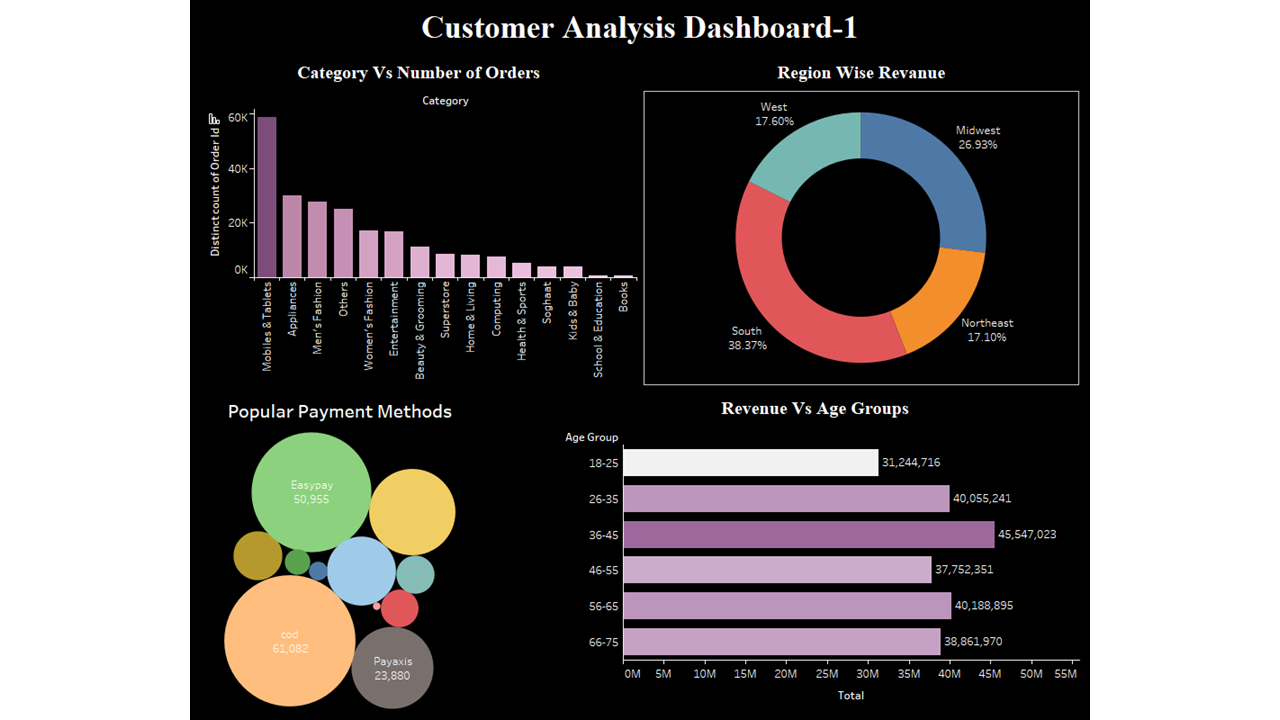

This screenshot's page, from the dashboard's own definition file:
{"tool":"tableau","page":{"name":"Dashboard 1","canvas":[1000,800],"ordinal":0},"visuals":[{"type":"text","box":[8,8,984,45]},{"type":"worksheet","title":"Category wise number of order","mark":"Bar","rows":["order_id"],"cols":["category"],"box":[8,59,492,373]},{"type":"worksheet","title":"Region Wise Revanue","mark":"Pie","rows":["Calculation_227994755006771208","Calculation_227994755006771208"],"box":[500,59,492,373]},{"type":"worksheet","title":"Popular Payment Methods","mark":"Circle","box":[8,432,389,360]},{"type":"worksheet","title":"customer ages","mark":"Automatic","rows":["total"],"cols":["Calculation_227994754961575941"],"box":[397,432,595,360]}]}

Visuals, with their boxes on the page's 1000x800 design canvas (x1, y1, x2, y2). These are canvas units, not pixel positions in the 1280x720 screenshot, which may show the page scaled, cropped or inside an application window:
text: 8 8 992 53
"Category wise number of order" worksheet (Bar marks): 8 59 500 432
"Region Wise Revanue" worksheet (Pie marks): 500 59 992 432
"Popular Payment Methods" worksheet (Circle marks): 8 432 397 792
"customer ages" worksheet: 397 432 992 792
